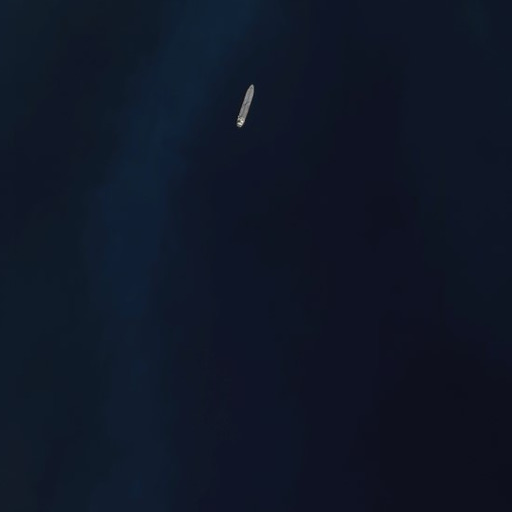ship: (233, 81, 256, 132)
